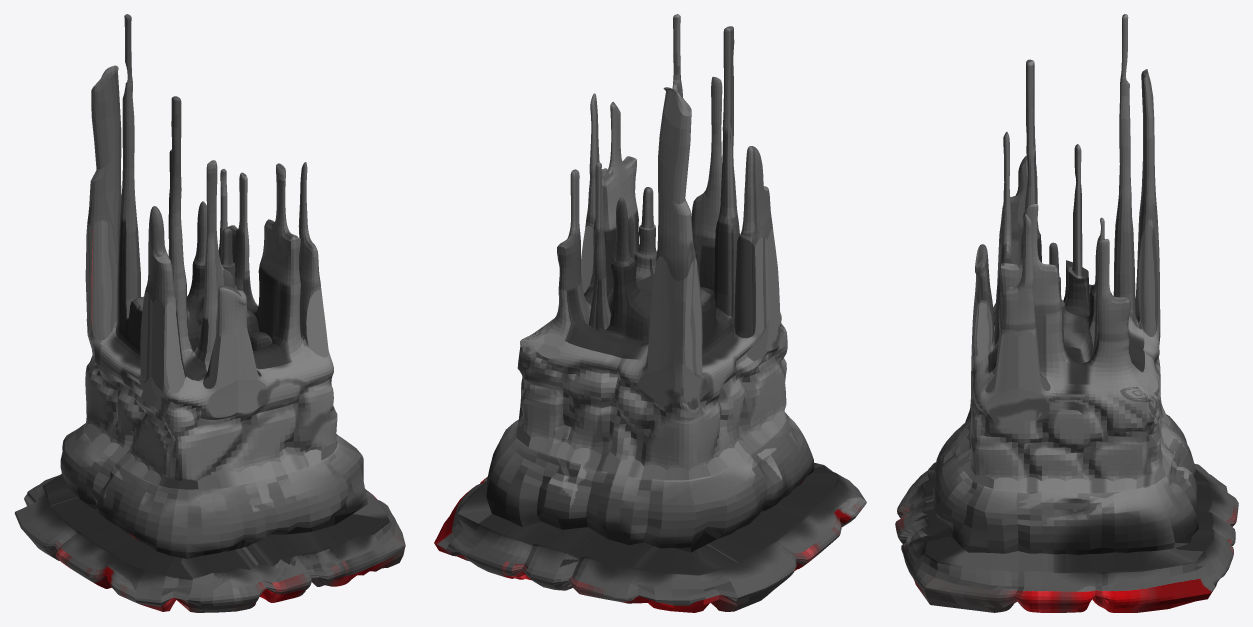
The model's file is redrockFix.fbx.
3 views of the same model, side by side, from view 1: azimuth 30°, elevation 25°; view 2: azimuth 150°, elevation 25°; view 3: azimuth 270°, elevation 25° (orthographic). The views are drawn at different scales.
Parts seen in each view (by area): view 1: Cube; view 2: Cube; view 3: Cube.
Boxes of the visible parts, x1=… form: Cube: x1=14, y1=14, x2=405, y2=612; Cube: x1=434, y1=14, x2=866, y2=612; Cube: x1=895, y1=14, x2=1238, y2=612.
Size of the model in its own units: 357 by 592 by 362.
1 material, 1 textured.
